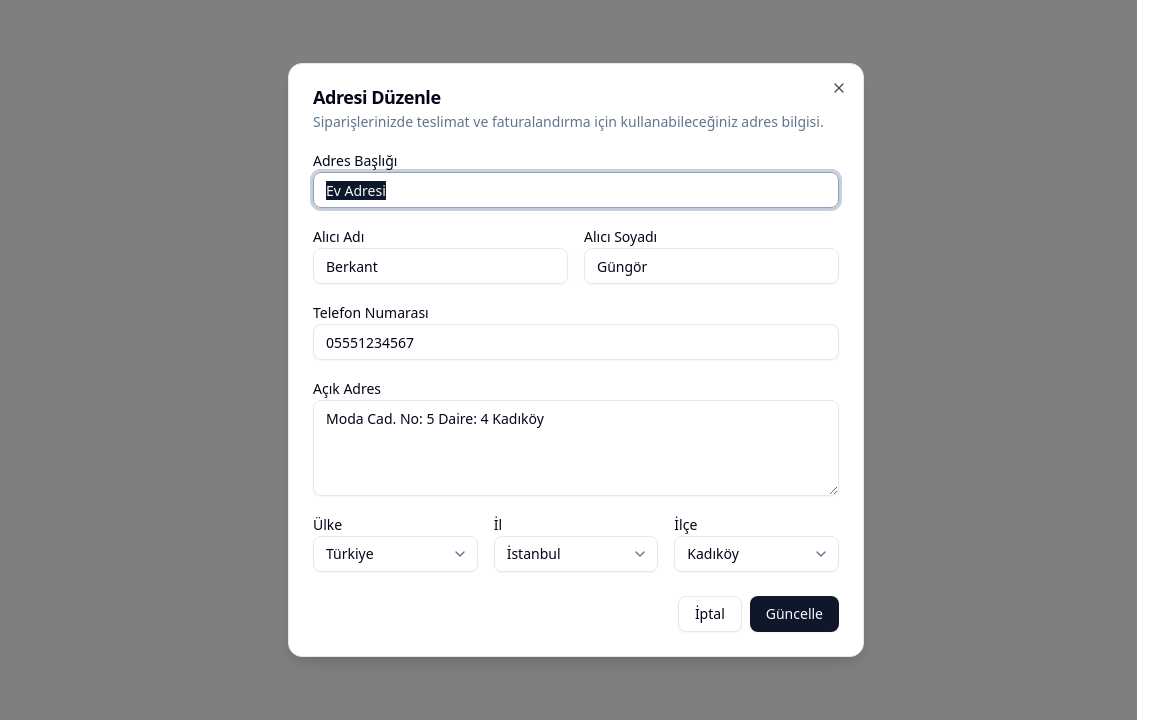
Test case: AddressModal › displays global error when server action returns an error
Step 1. Click the button "Güncelle" → click(794, 614), box [750,596,839,632]
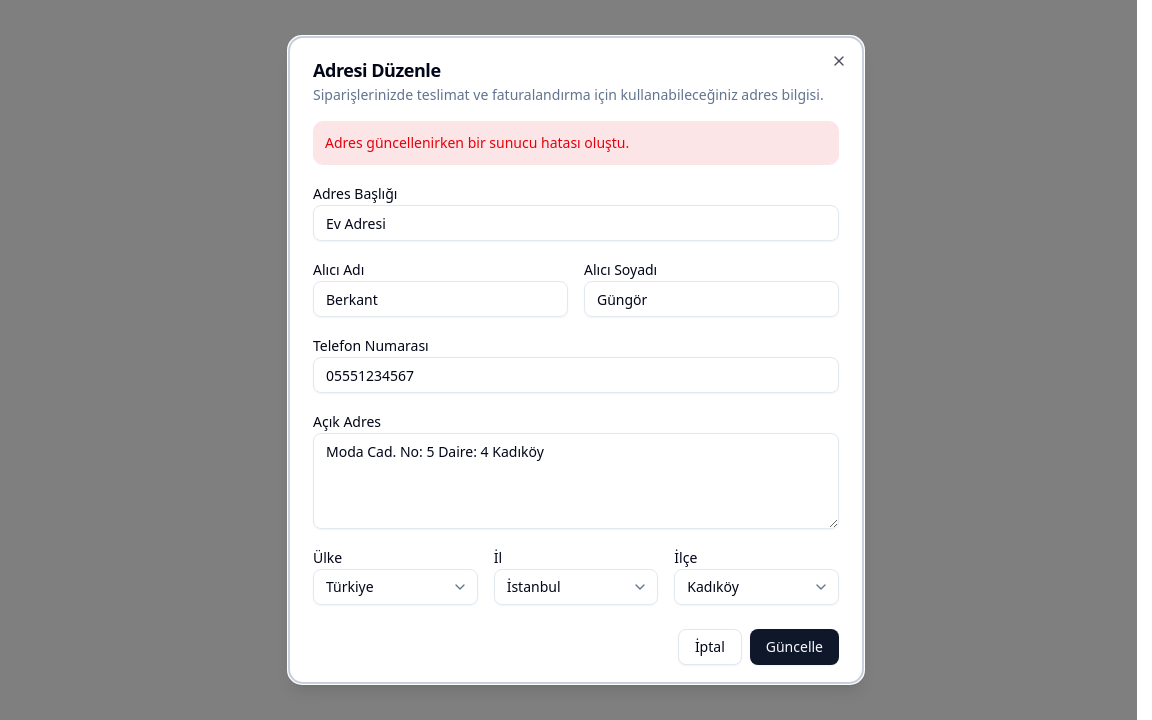
Result: the text "Adres güncellenirken bir sunucu hatası oluştu." is shown at [313,121,839,165]
